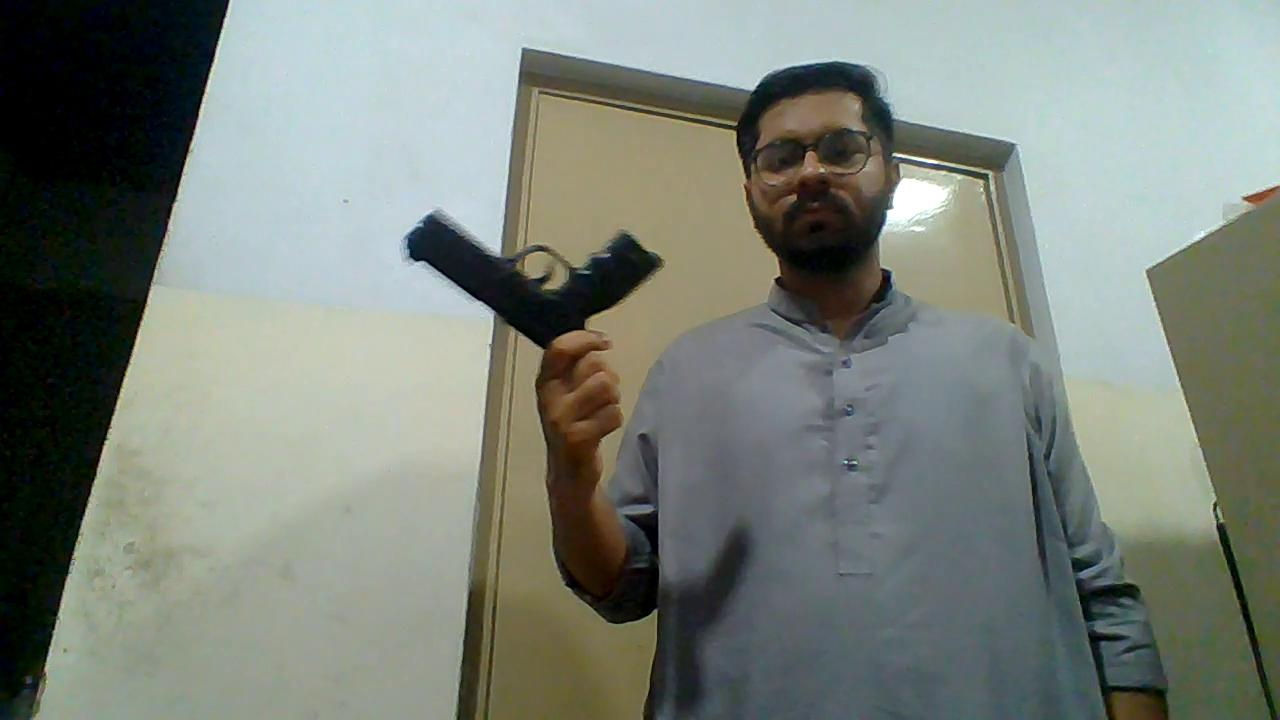criminal: (402, 57, 1172, 720)
weapon: (404, 207, 669, 348)
